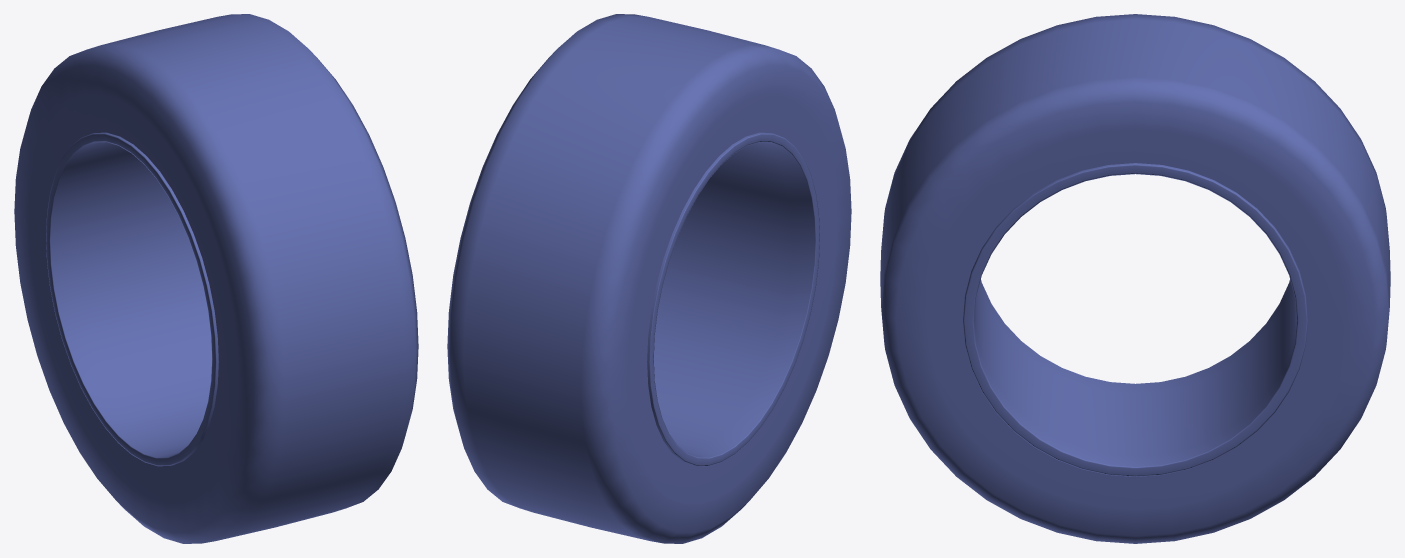
File: tape_roll_lo 1.fbx
3 renders of one model, left to right at view 1: azimuth 30°, elevation 25°; view 2: azimuth 150°, elevation 25°; view 3: azimuth 270°, elevation 25°, orthographic.
Parts seen in each view (by area): view 1: tape_outer, tape_core; view 2: tape_outer, tape_core; view 3: tape_outer, tape_core.
Boxes of the visible parts, box(x1,y1,x2,y2) form: tape_outer: box(14, 14, 418, 543); tape_core: box(46, 132, 218, 466); tape_outer: box(447, 14, 851, 543); tape_core: box(647, 132, 819, 466); tape_outer: box(880, 14, 1390, 543); tape_core: box(963, 163, 1307, 476).
Bounding box in the file's own units: 7.31 × 18.88 × 18.88.
